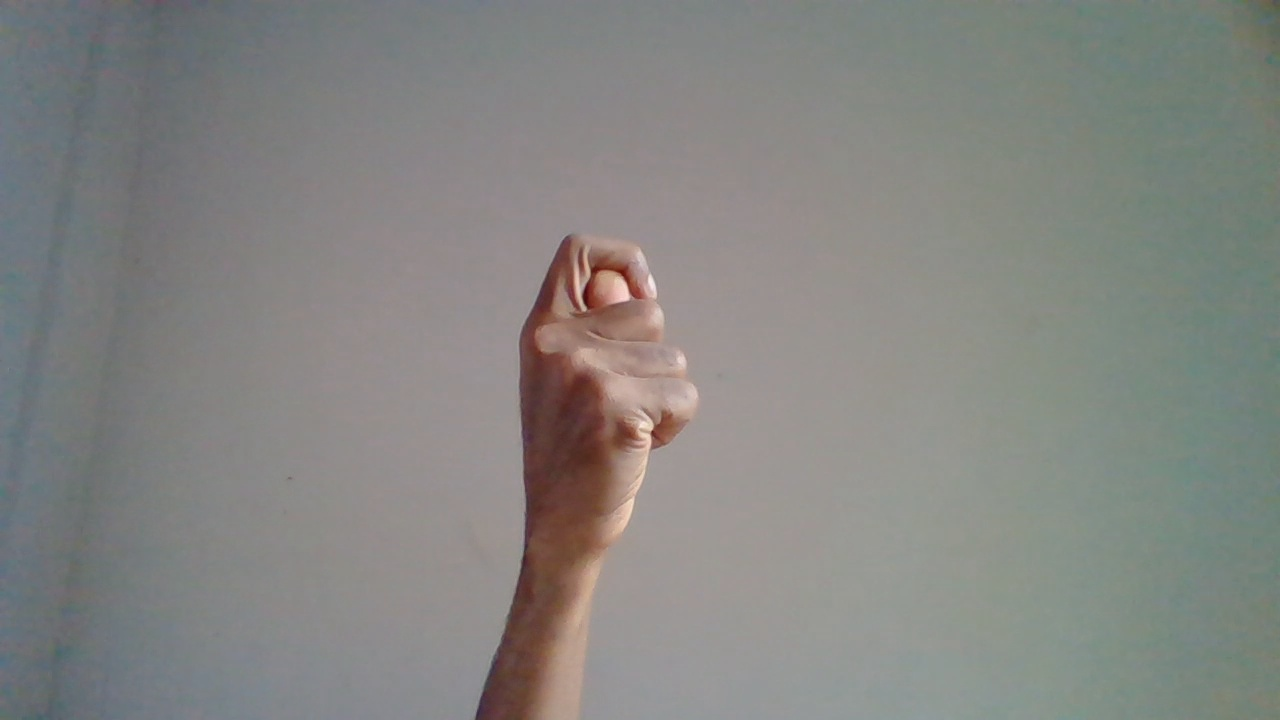che: (513, 229, 702, 702)
